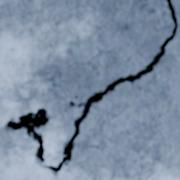brick: (0, 0, 173, 179), (59, 0, 179, 179)
crack: (2, 0, 178, 179)
